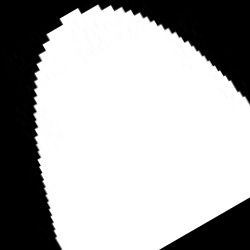spot: (34, 7, 246, 247)
